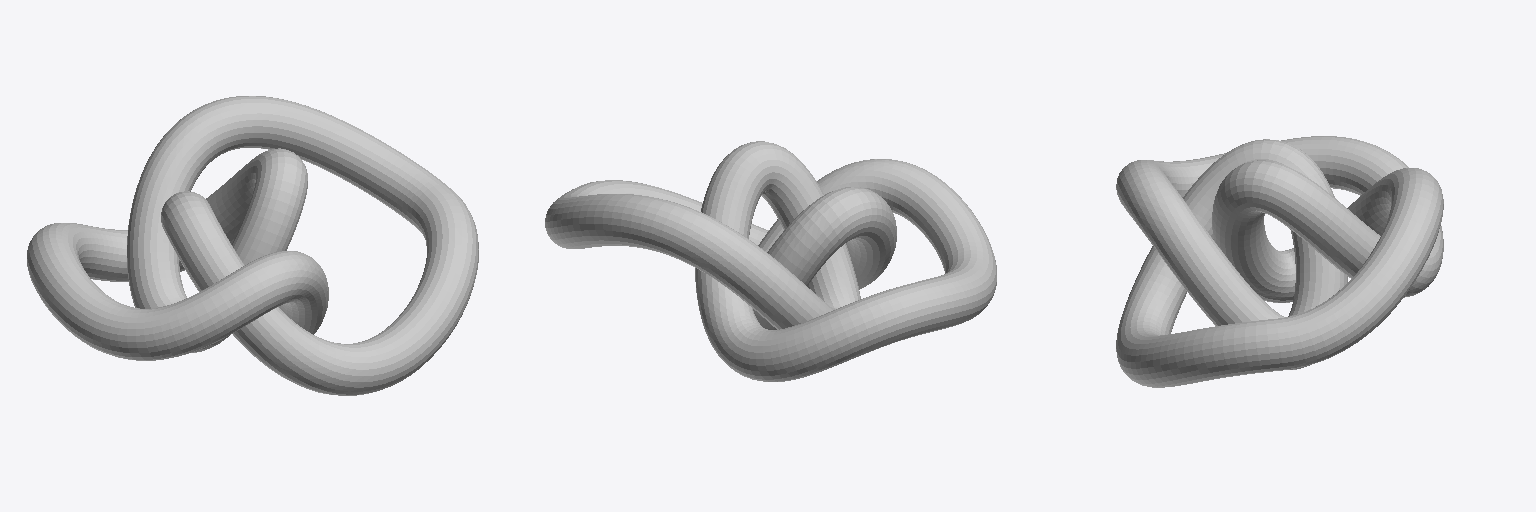
The model's file is torusknot2.obj.
3 renders of one model, left to right at view 1: azimuth 30°, elevation 25°; view 2: azimuth 150°, elevation 25°; view 3: azimuth 270°, elevation 25°, orthographic.
Visible parts, largest first — view 1: TorusKnot.001; view 2: TorusKnot.001; view 3: TorusKnot.001.
Part boxes in pixels (x1,y1,x2,y2): TorusKnot.001: (27,96,478,395); TorusKnot.001: (545,141,996,381); TorusKnot.001: (1116,136,1443,387).
Bounding box in the file's own units: 8.99 × 4.3 × 6.26.